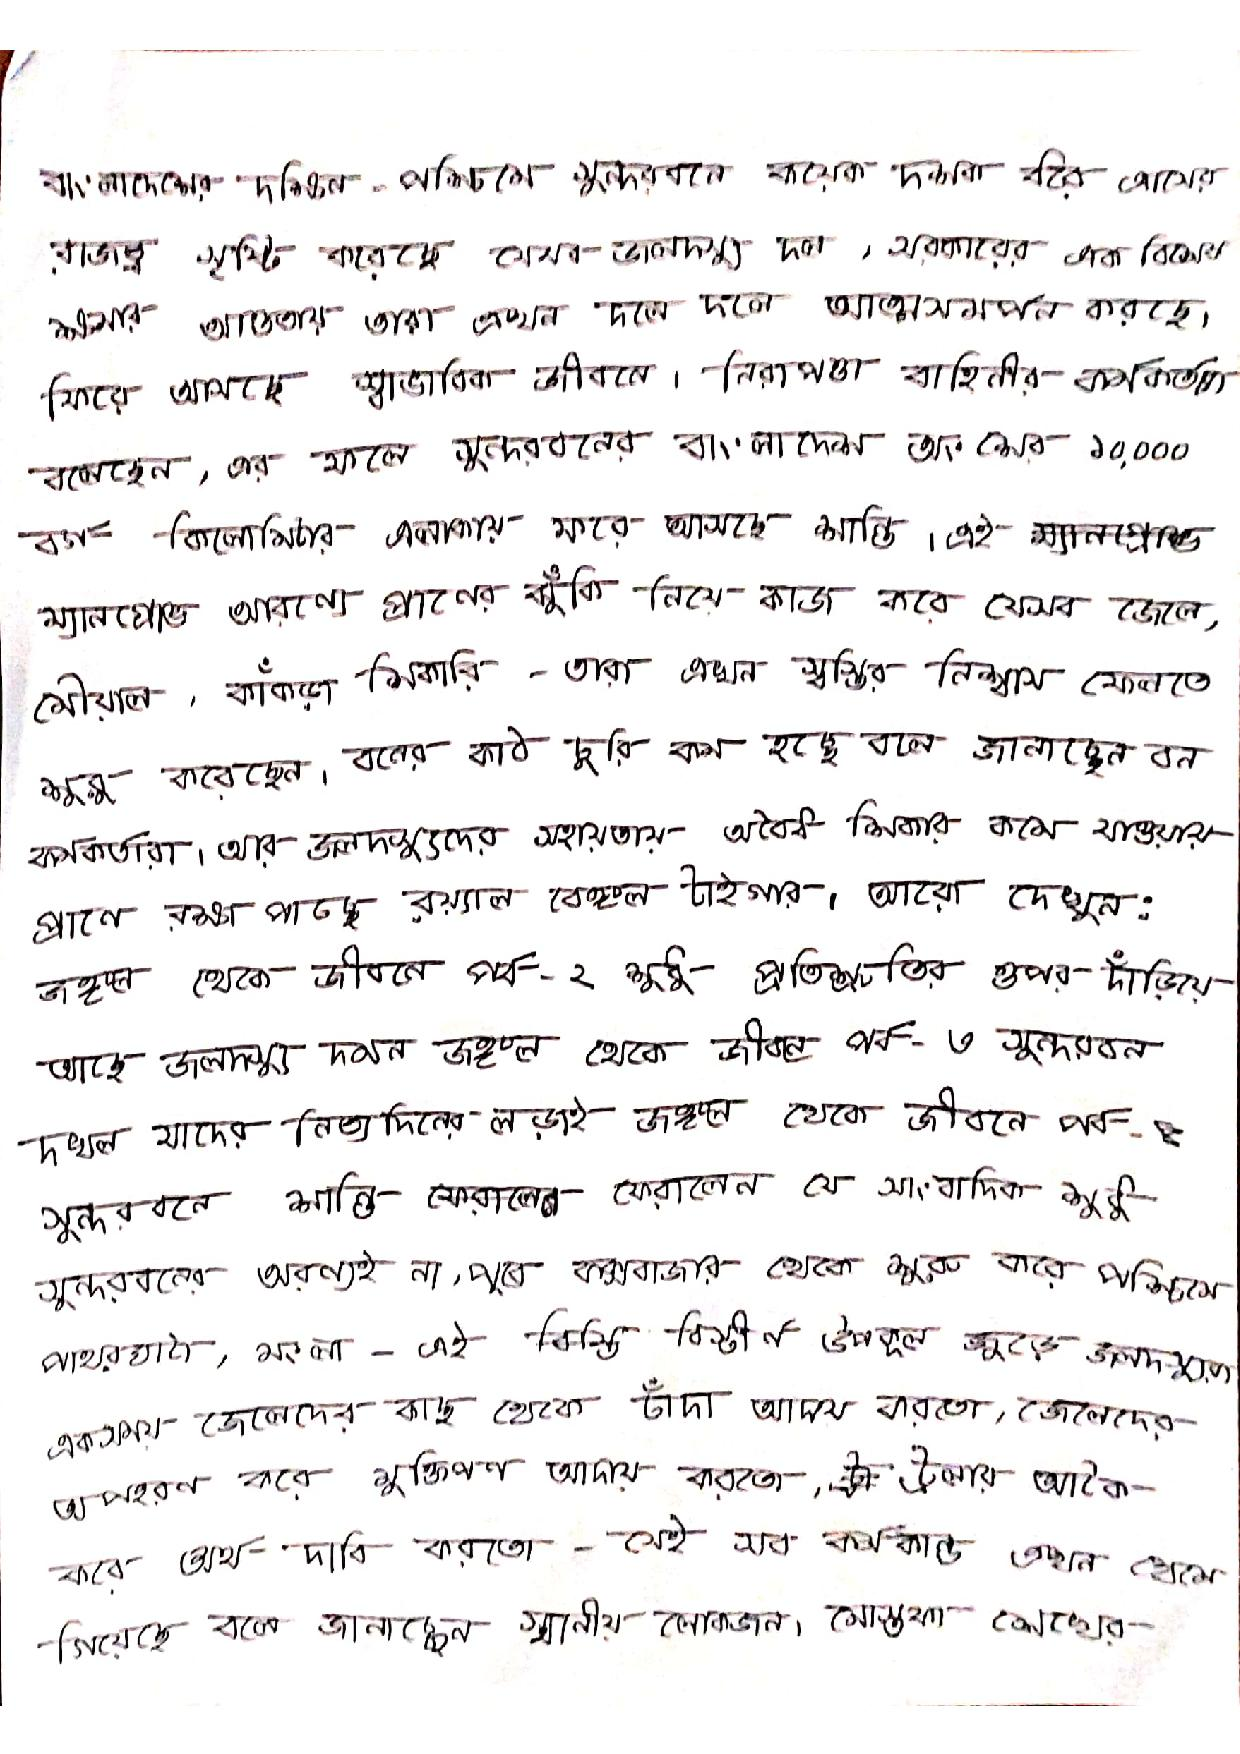line: (42, 1307, 1236, 1397), (52, 1512, 1225, 1601), (31, 644, 1208, 731), (35, 726, 1215, 811), (38, 560, 1216, 644), (50, 1373, 1190, 1460), (39, 941, 1240, 1019), (25, 798, 1235, 874), (42, 1164, 1165, 1244), (31, 860, 1162, 939), (42, 350, 1235, 424), (54, 1448, 1155, 1527), (28, 1088, 1181, 1164), (34, 1248, 1227, 1318), (39, 1593, 1154, 1664), (28, 429, 1194, 497), (38, 1016, 1159, 1083), (17, 501, 1215, 560), (34, 152, 1227, 208), (42, 227, 1229, 283), (48, 287, 1212, 344)
